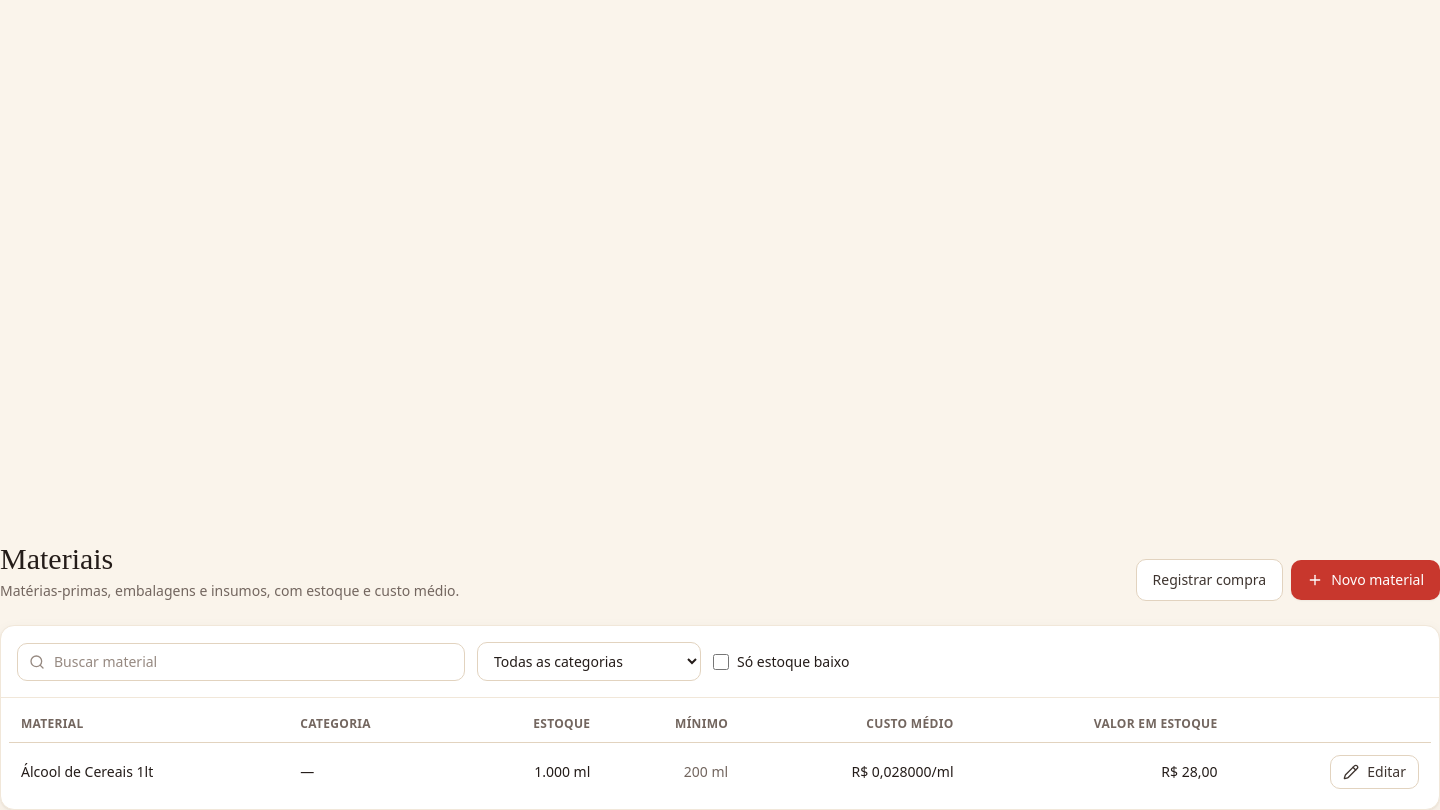
Test: PaginaMateriais › o botão Editar abre a edição sem sair da lista, com clique ou teclado
The width and height of the screenshot is (1440, 810).
(page scrolled)
Click the button "Editar" at point(1375, 772), box [1330, 755, 1419, 789]
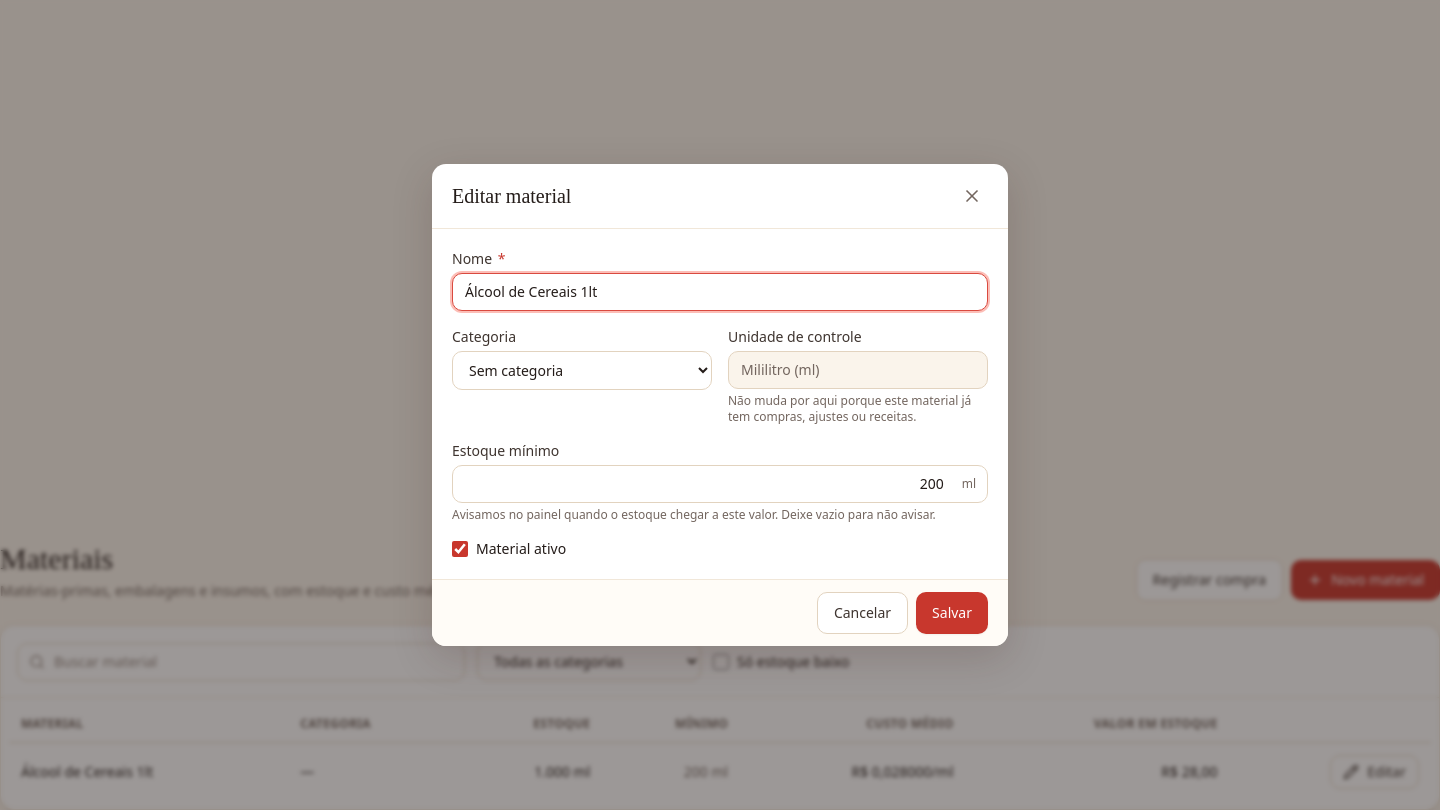
Check: the heading "Editar material" is shown, box [452, 182, 571, 210]
Check: the field labelled "Nome *" holds "Álcool de Cereais 1lt", box [452, 273, 988, 311]
Click the button "Cancelar" at point(862, 613), box [817, 592, 908, 634]
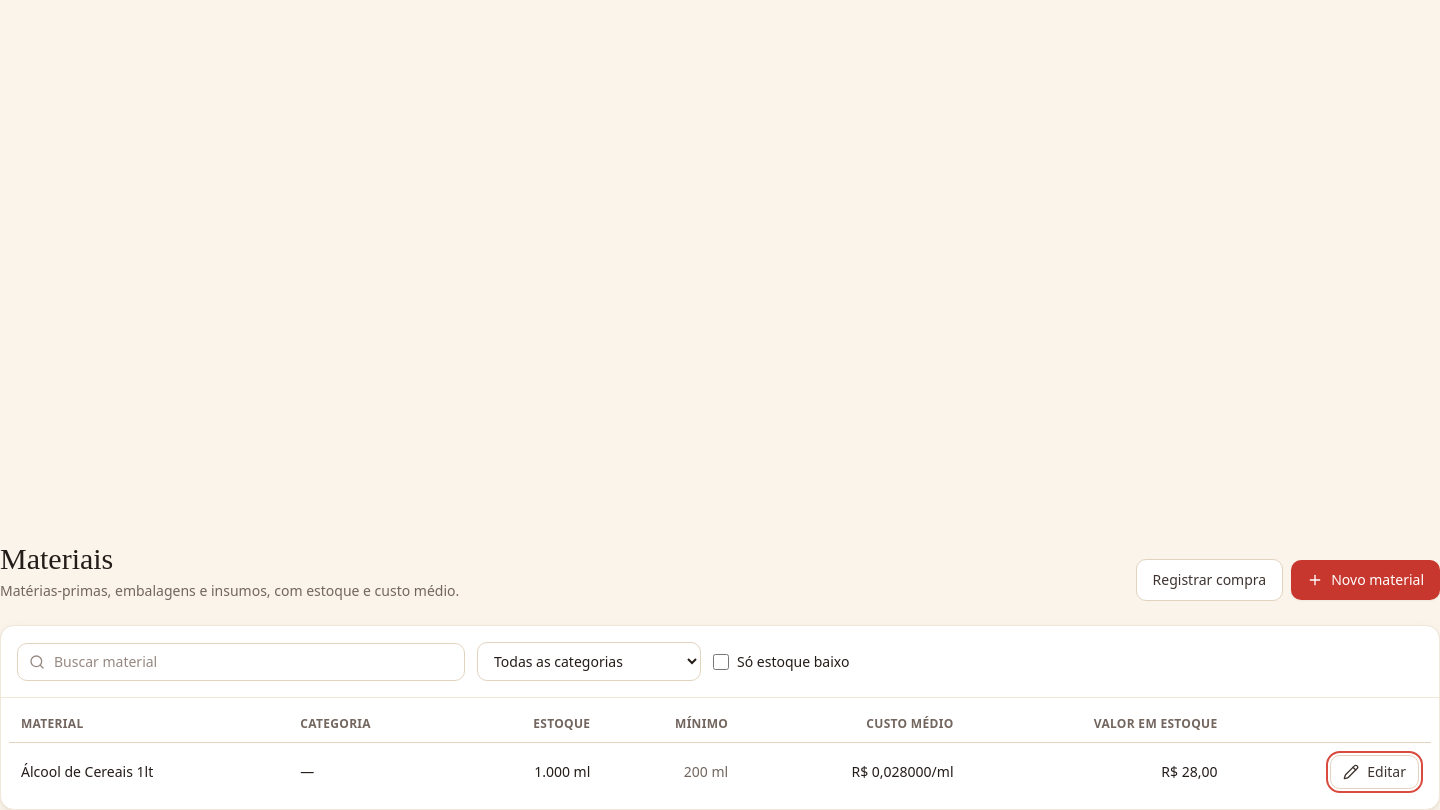
Press Enter
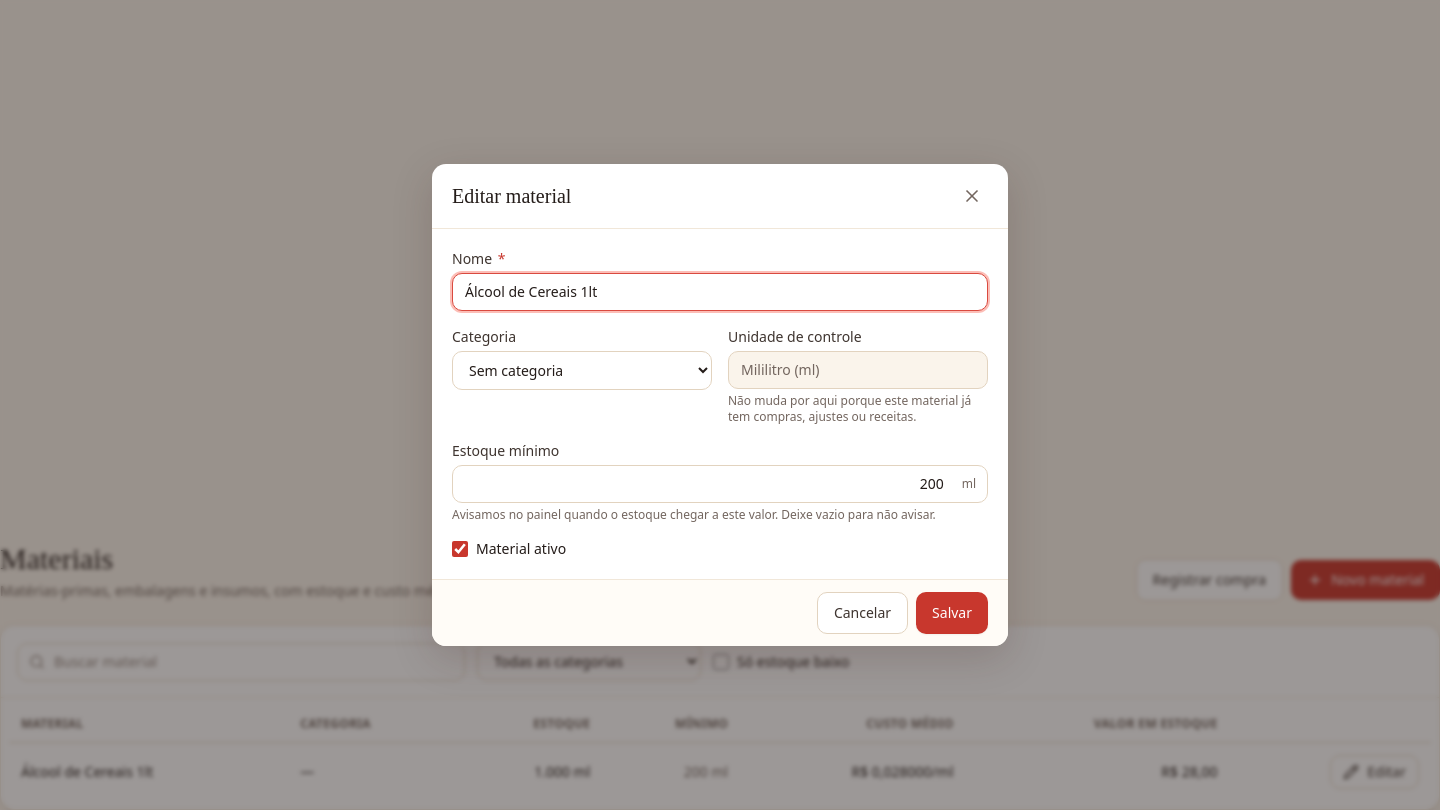
Check: the heading "Editar material" is shown, box [452, 182, 571, 210]
